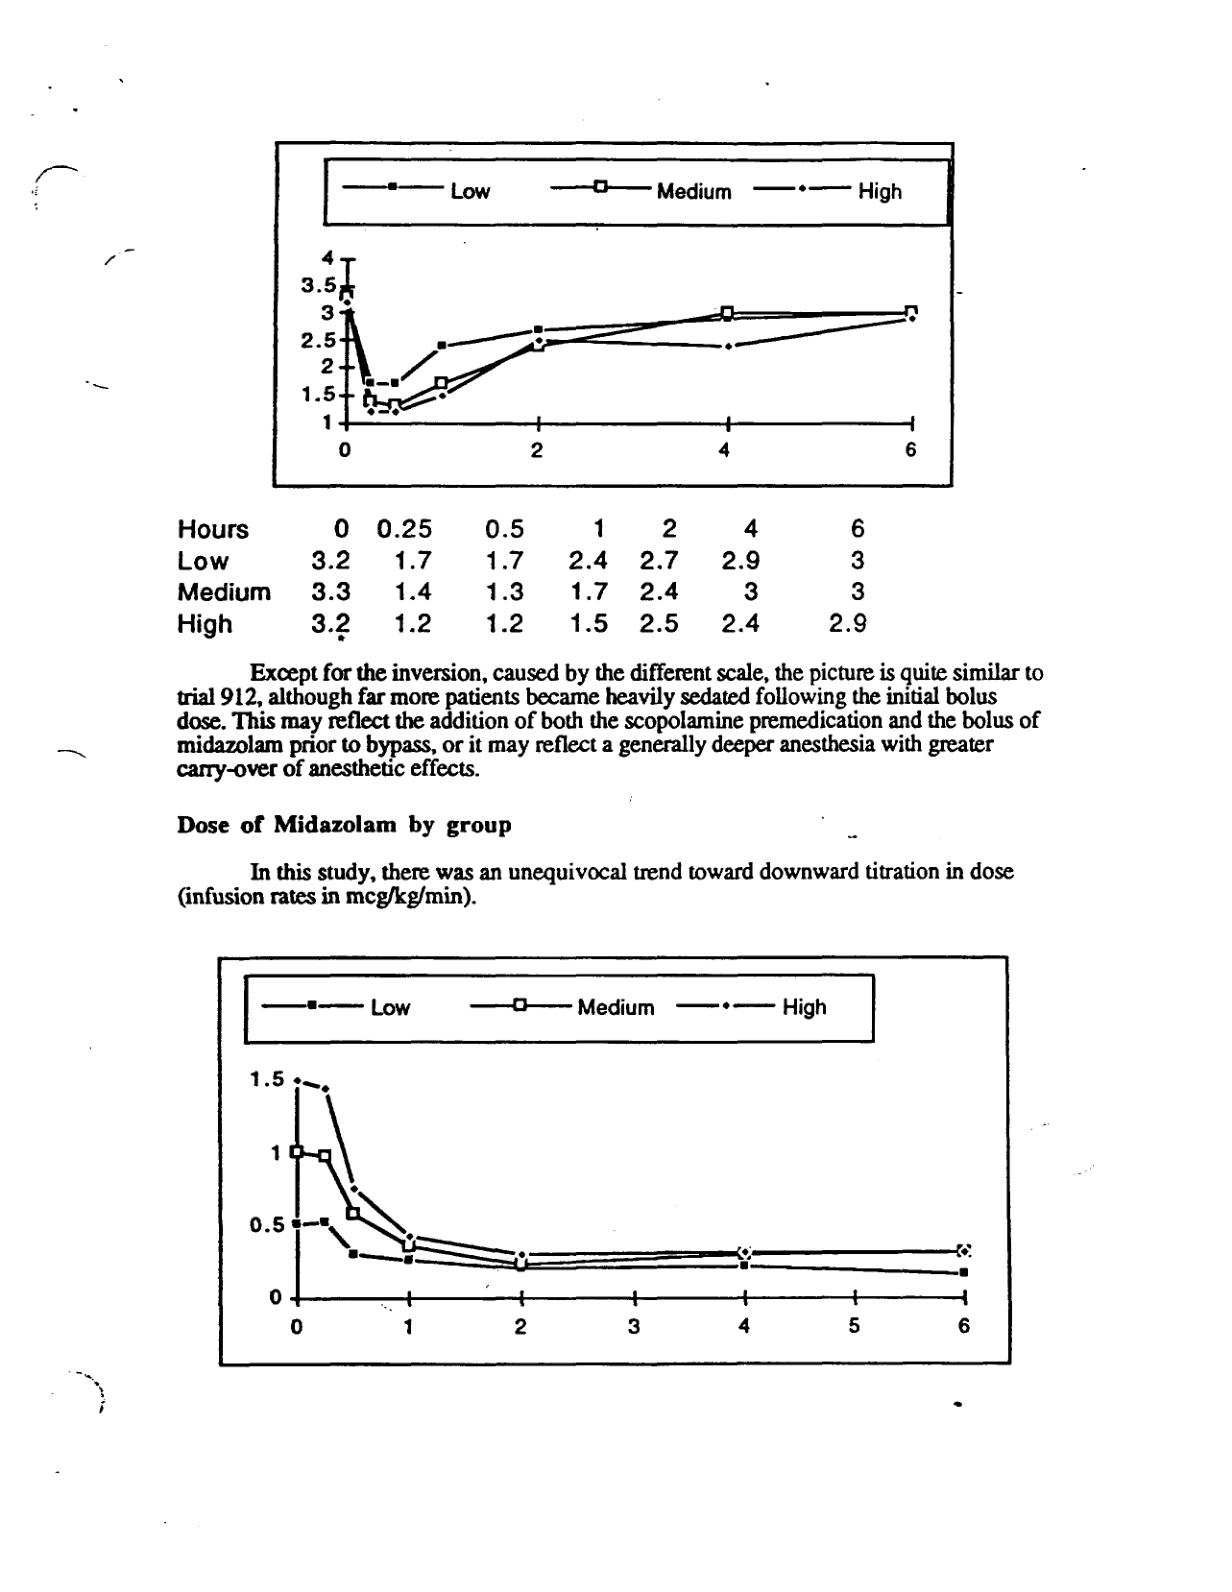nolines: (173, 512, 869, 638)
